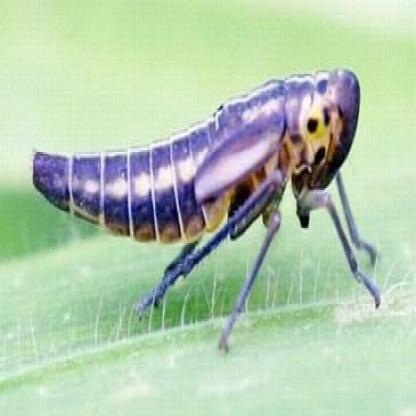Green-Leafhopper: (30, 71, 388, 342)
